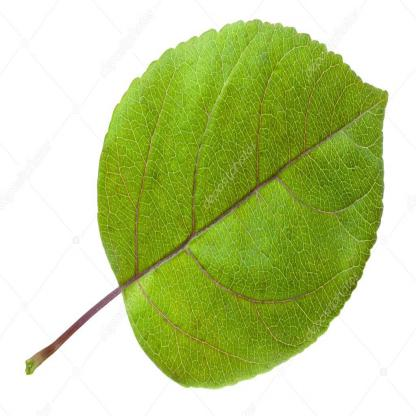apple leaf: (87, 9, 394, 402)
